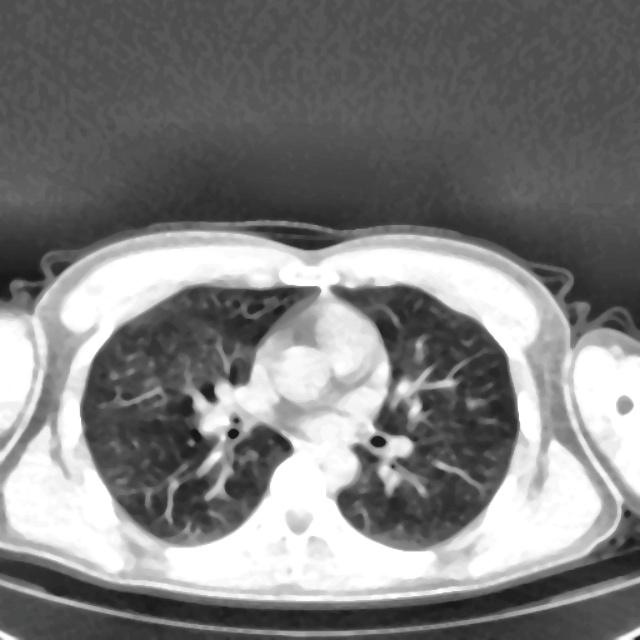covid: (0, 220, 639, 609)
